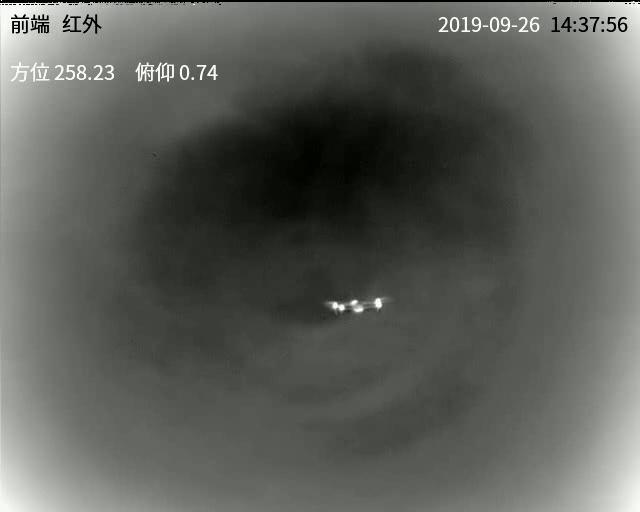DRONE: (328, 297, 384, 319)
